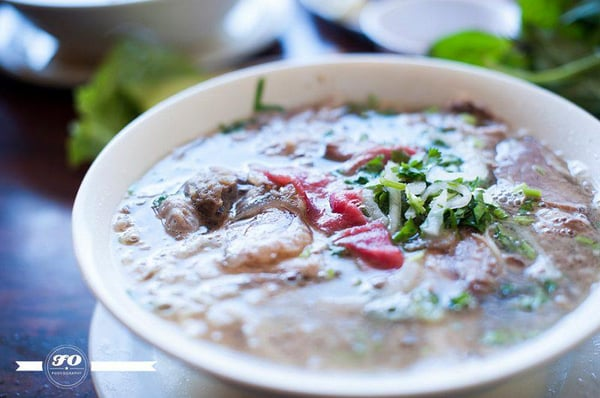sushi: (72, 54, 600, 392)
